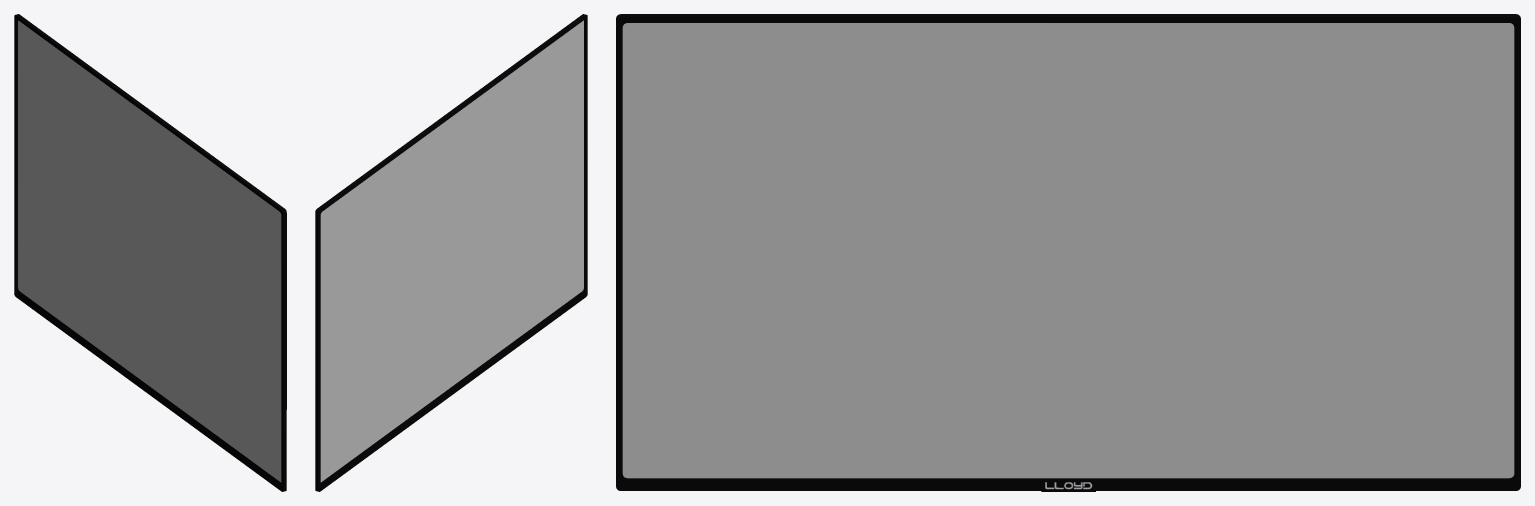
Rendered from tv_display.glb.
The picture shows the model from 3 angles, left to right: view 1: azimuth 30°, elevation 25°; view 2: azimuth 150°, elevation 25°; view 3: azimuth 270°, elevation 25°; orthographic projection. The views are drawn at different scales.
Parts seen in each view (by area): view 1: Lloyd_tv; view 2: Lloyd_tv; view 3: Lloyd_tv.
Boxes of the visible parts, x1,y1,x2,y2 form: Lloyd_tv: (14,14,286,491); Lloyd_tv: (315,14,587,491); Lloyd_tv: (616,14,1520,491).
Size of the model in its own units: 0.0719 by 1.06 by 1.82.
2 materials, 1 textured.
